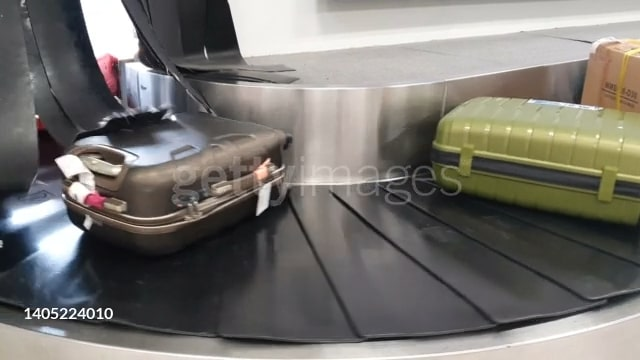baggage: (60, 107, 301, 250), (430, 94, 640, 225)
